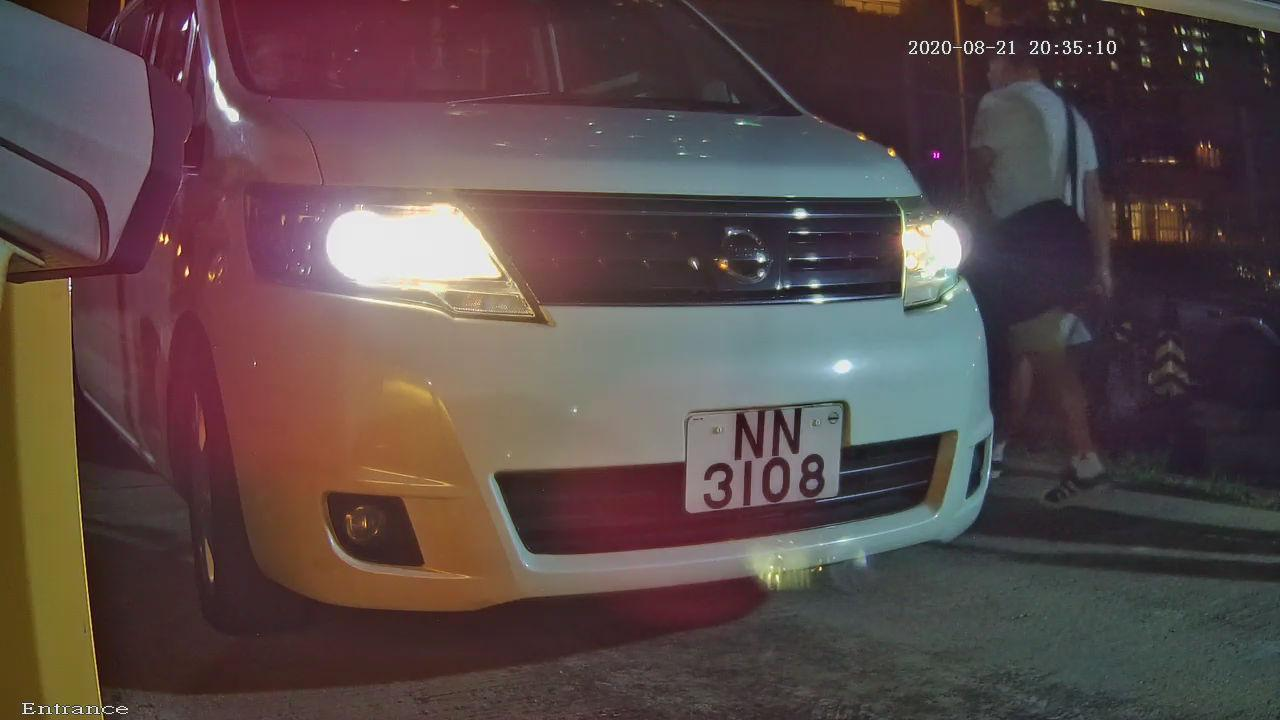Car: (41, 7, 1103, 672)
License Plate: (638, 381, 870, 542)
